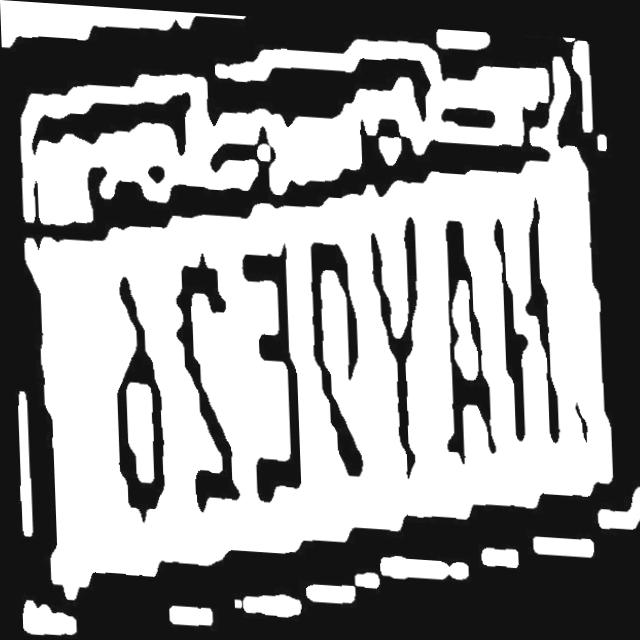2: (167, 247, 236, 513)
6: (102, 263, 167, 525)
9: (304, 228, 367, 480)
a: (432, 206, 496, 460)
e: (240, 234, 303, 504)
n: (491, 191, 560, 445)
y: (365, 209, 430, 474)
